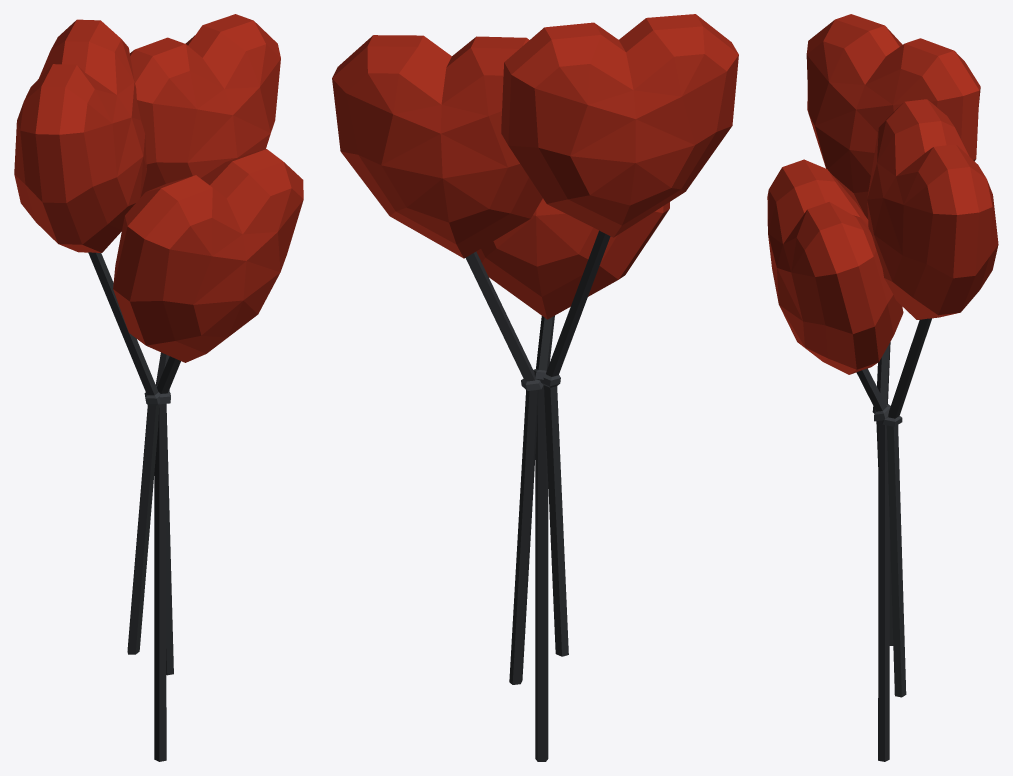
Rendered from SM_Prop_Balloon_Group_01.fbx.
The picture shows the model from 3 angles, left to right: view 1: azimuth 30°, elevation 25°; view 2: azimuth 150°, elevation 25°; view 3: azimuth 270°, elevation 25°; orthographic projection. The views are drawn at different scales.
Parts seen in each view (by area): view 1: SM_Prop_Balloon_Group_01; view 2: SM_Prop_Balloon_Group_01; view 3: SM_Prop_Balloon_Group_01.
Part boxes in pixels (box(x1,y1,x2,y2)): SM_Prop_Balloon_Group_01: box(14, 14, 303, 761); SM_Prop_Balloon_Group_01: box(332, 14, 738, 761); SM_Prop_Balloon_Group_01: box(767, 14, 998, 761).
Size of the model in its own units: 57.1 by 126 by 38.32.
1 material, 1 textured.
